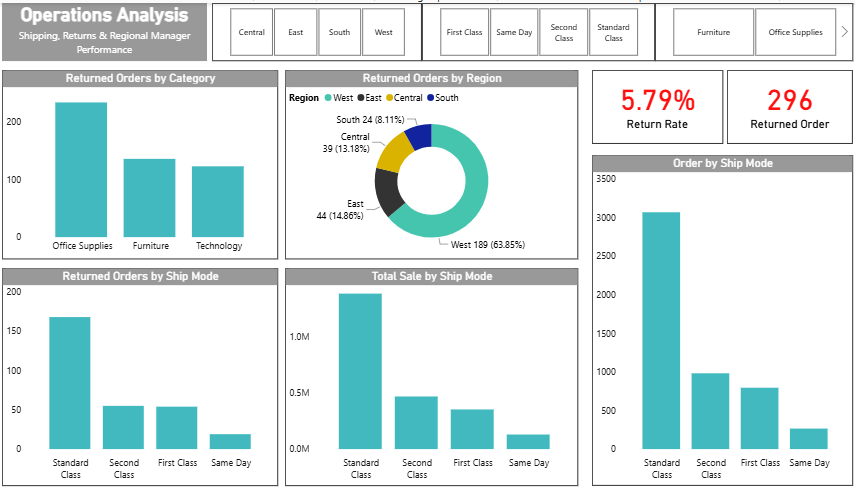

What the dashboard file says about the page in this screenshot:
{"tool":"powerbi","page":{"name":"Operations Analysis","canvas":[1280,720],"ordinal":5},"visuals":[{"type":"textbox","title":"Operations Analysis","box":[11.7,0,300,84.9],"z":0},{"type":"clusteredColumnChart","title":"Order by Ship Mode","fields":{"Category":["Orders.Ship Mode"],"Y":["Orders.Total Order"]},"box":[875.1,222.4,382,484.4],"z":1000},{"type":"clusteredColumnChart","title":"Total Sale by Ship Mode","fields":{"Category":["Orders.Ship Mode"],"Y":["Orders.Total Sale"]},"box":[425.9,387.8,428.8,319],"z":2000},{"type":"cardVisual","title":"Total Sale","fields":{"Data":["Returns.Returned Order"]},"box":[1072.7,98,184.4,108.3],"z":3000},{"type":"cardVisual","fields":{"Data":["Returns.Return Rate"]},"box":[875.1,98,191.7,108.3],"z":4000},{"type":"clusteredColumnChart","fields":{"Category":["Orders.Category"],"Y":["Returns.Returned Orders"]},"box":[11.7,98,403.9,276.6],"z":5000},{"type":"clusteredColumnChart","fields":{"Category":["Orders.Ship Mode"],"Y":["Returns.Returned Orders"]},"box":[11.7,387.8,403.9,319],"z":6000},{"type":"donutChart","fields":{"Category":["Orders.Region"],"Y":["Returns.Returned Orders"]},"box":[425.9,98,428.8,276.6],"z":7000},{"type":"slicer","fields":{"Values":["Orders.Category"]},"box":[967.3,0,305.9,84.9],"z":8000},{"type":"slicer","fields":{"Values":["Orders.Region"]},"box":[319,0,307.3,84.9],"z":9000},{"type":"slicer","fields":{"Values":["Orders.Ship Mode"]},"box":[626.3,0,341,84.9],"z":10000}]}

Visuals, with their boxes in screenshot pixels (x1, y1, x2, y2), scaled from the page's 1280x720 canvas onto the 855x490 screenshot:
"Operations Analysis" textbox: [x1=8, y1=0, x2=208, y2=58]
"Order by Ship Mode" clusteredColumnChart: [x1=585, y1=151, x2=840, y2=481]
"Total Sale by Ship Mode" clusteredColumnChart: [x1=284, y1=264, x2=571, y2=481]
"Total Sale" cardVisual: [x1=717, y1=67, x2=840, y2=140]
cardVisual - Returns.Return Rate: [x1=585, y1=67, x2=713, y2=140]
clusteredColumnChart - Orders.Category x Returns.Returned Orders: [x1=8, y1=67, x2=278, y2=255]
clusteredColumnChart - Orders.Ship Mode x Returns.Returned Orders: [x1=8, y1=264, x2=278, y2=481]
donutChart - Orders.Region x Returns.Returned Orders: [x1=284, y1=67, x2=571, y2=255]
slicer - Orders.Category: [x1=646, y1=0, x2=850, y2=58]
slicer - Orders.Region: [x1=213, y1=0, x2=418, y2=58]
slicer - Orders.Ship Mode: [x1=418, y1=0, x2=646, y2=58]
